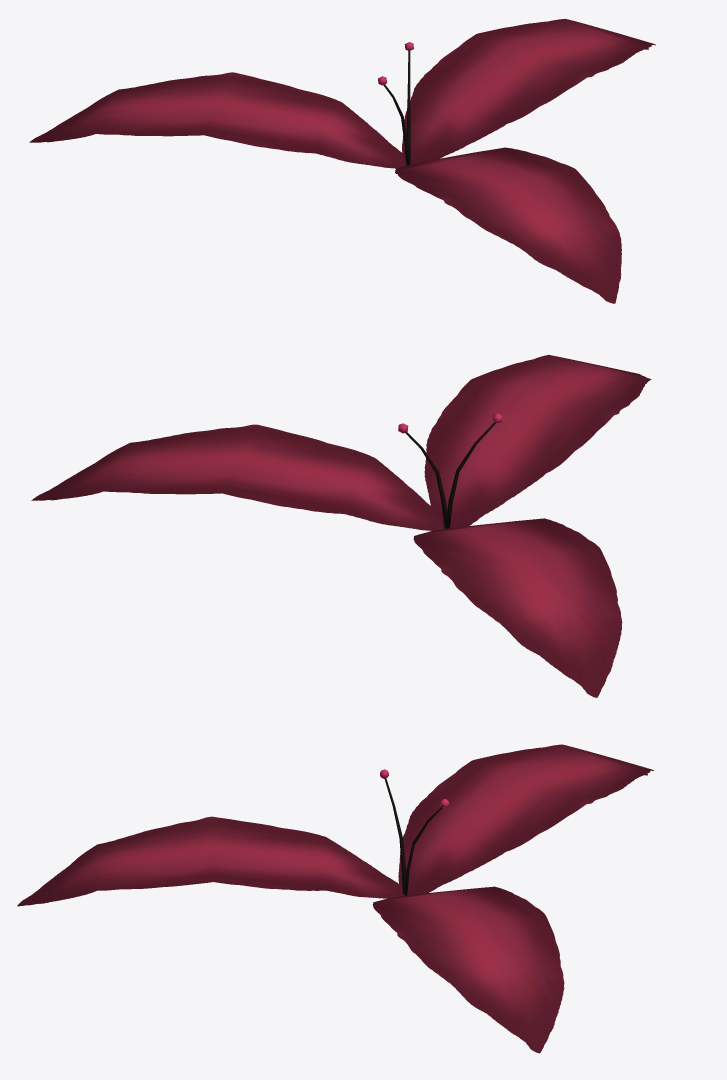
The model's file is redFern2.obj.
3 views of the same model, one above another, from view 1: azimuth 30°, elevation 25°; view 2: azimuth 150°, elevation 25°; view 3: azimuth 270°, elevation 25° (orthographic). The views are drawn at different scales.
Parts seen in each view (by area): view 1: Plane; view 2: Plane; view 3: Plane.
Boxes of the visible parts, x1=… form: Plane: x1=29, y1=18, x2=655, y2=303; Plane: x1=31, y1=354, x2=651, y2=697; Plane: x1=17, y1=744, x2=653, y2=1053.
Size of the model in its own units: 2.79 by 0.4717 by 2.64.
